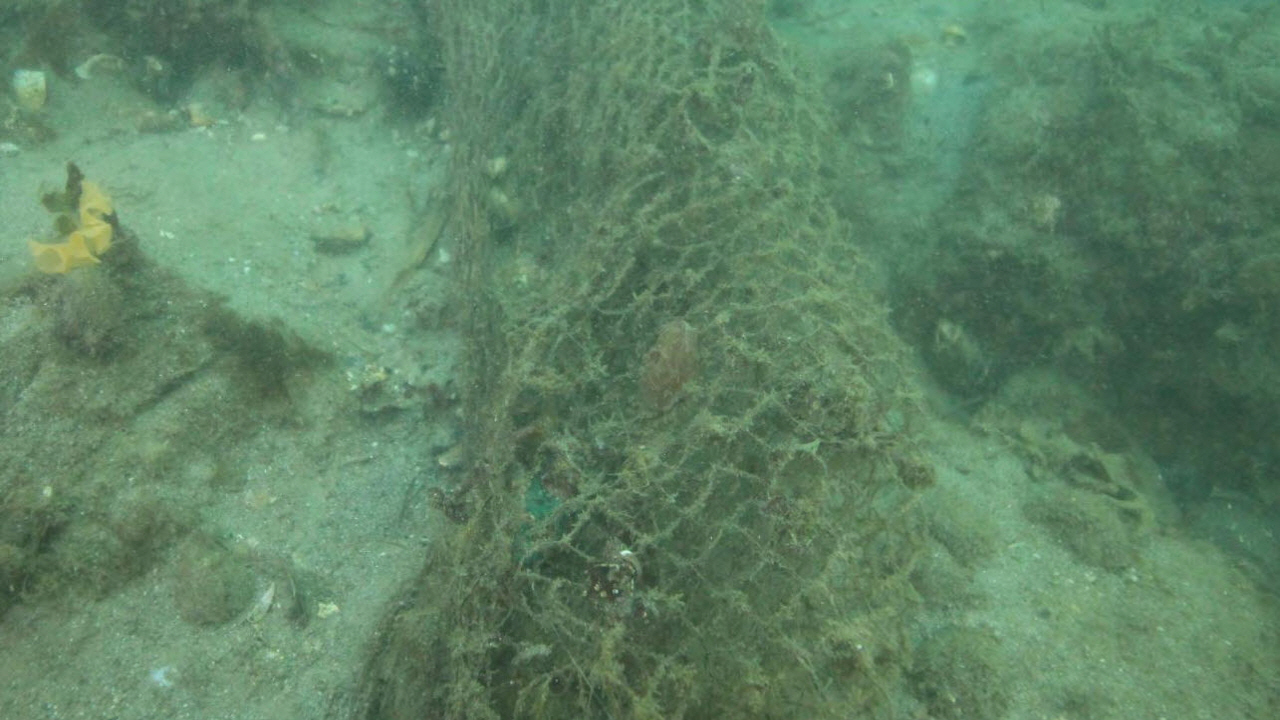fish net: (437, 0, 929, 717)
